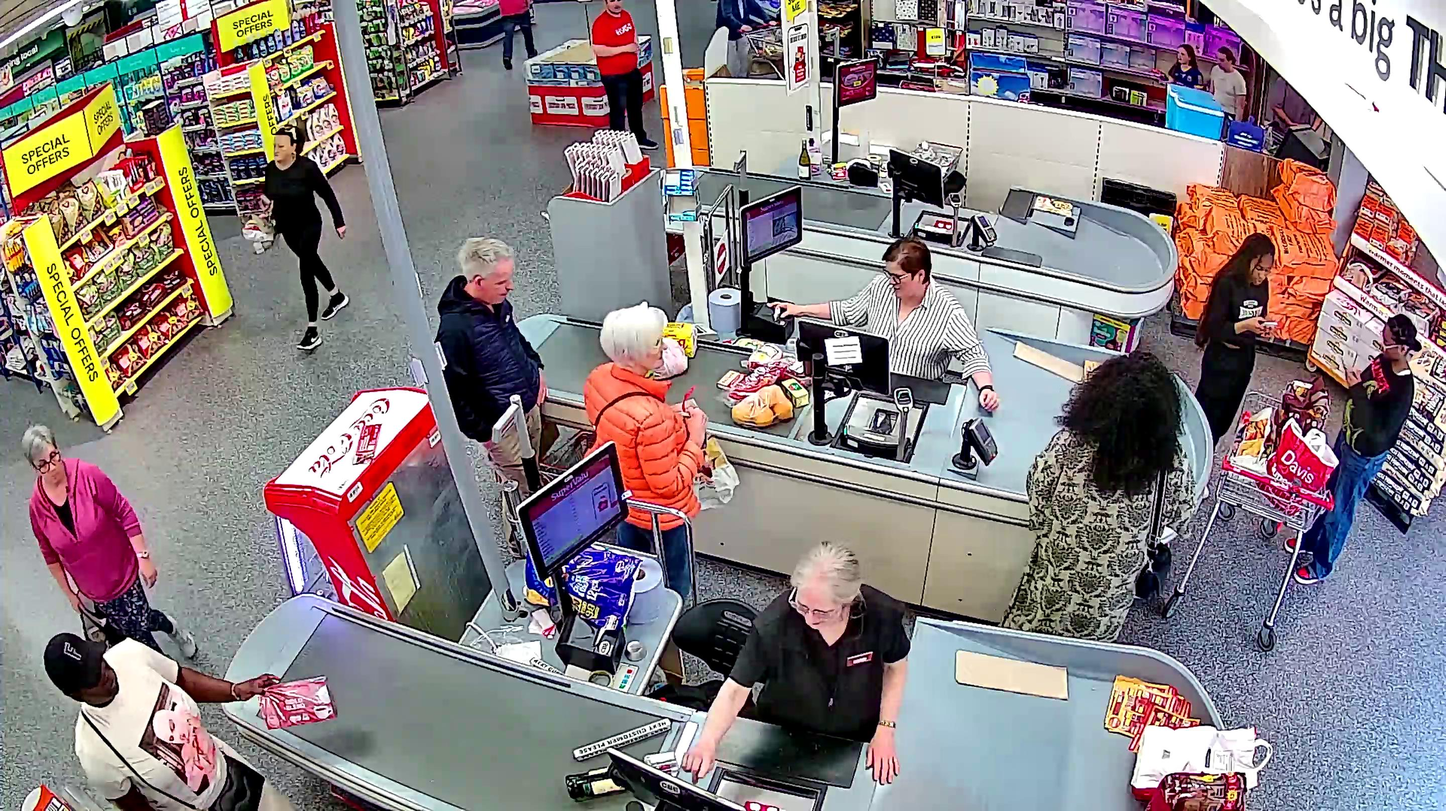vacant-checkout-counter: (825, 50, 1031, 262)
